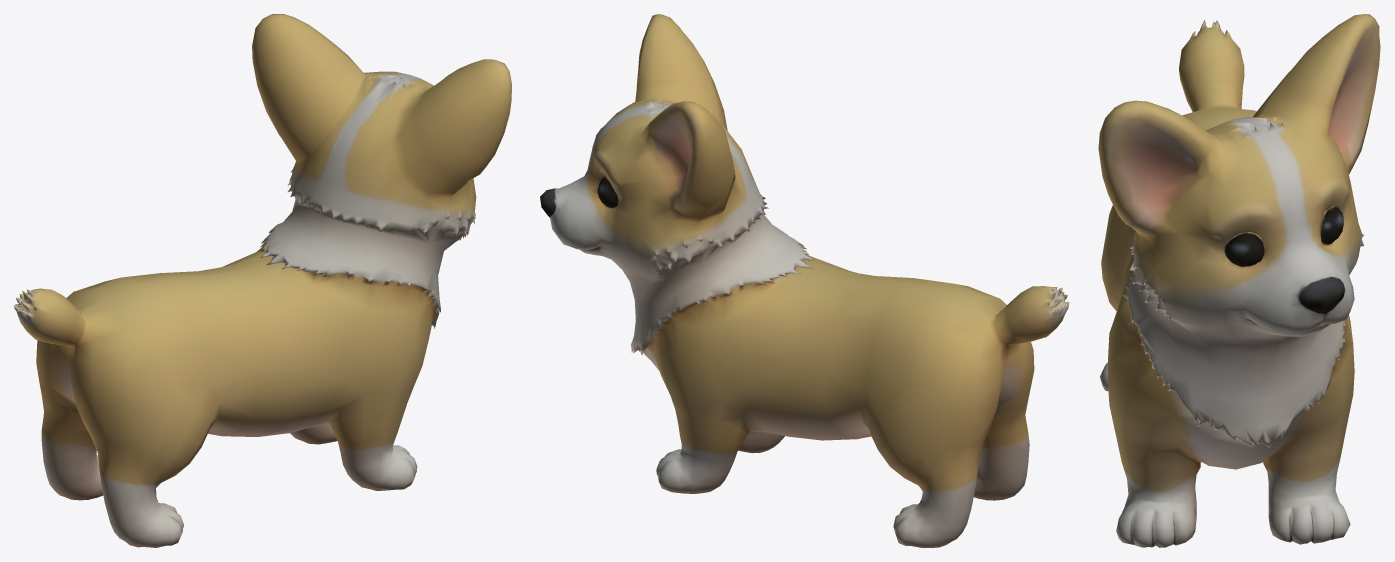
3 views of the same model, side by side, from view 1: azimuth 30°, elevation 25°; view 2: azimuth 150°, elevation 25°; view 3: azimuth 270°, elevation 25° (orthographic). The views are drawn at different scales.
Visible parts, largest first — view 1: tripo_node_ebf7e168; view 2: tripo_node_ebf7e168; view 3: tripo_node_ebf7e168.
Part boxes in pixels (x1=…): tripo_node_ebf7e168: x1=14, y1=14, x2=511, y2=547; tripo_node_ebf7e168: x1=540, y1=14, x2=1069, y2=547; tripo_node_ebf7e168: x1=1098, y1=14, x2=1380, y2=547.
Bounding box in the file's own units: 0.998 × 0.8027 × 0.4043.
Materials: 1 (1 with a texture image).
